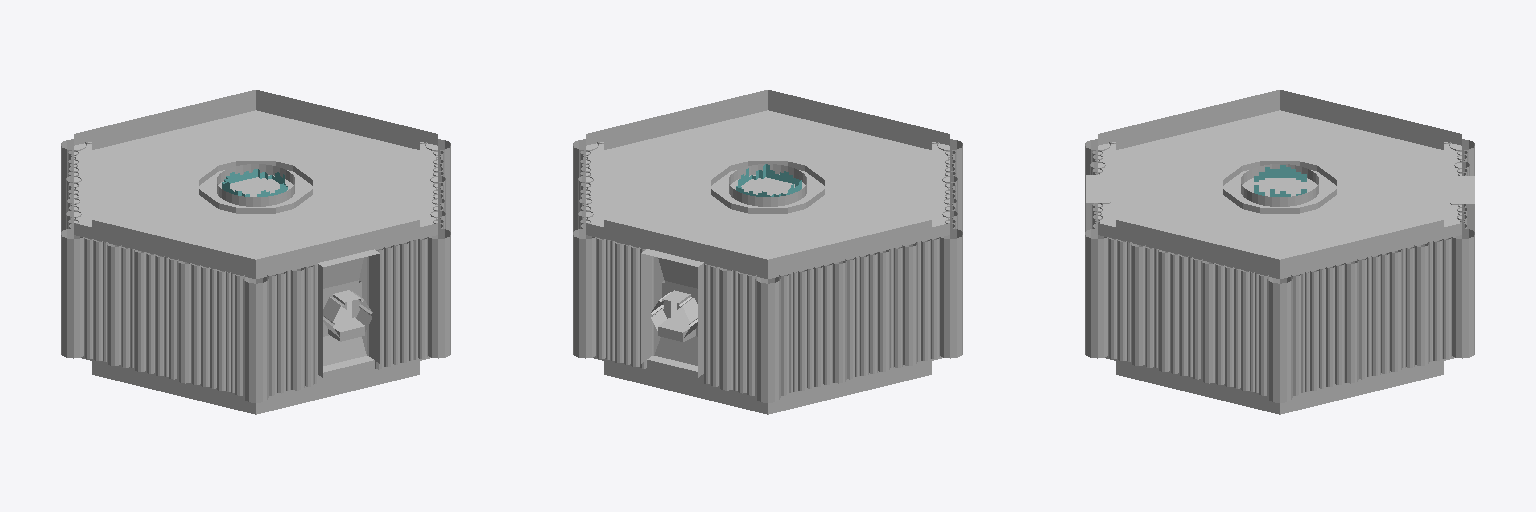
File: Reactor.obj
The picture shows the model from 3 angles: view 1: azimuth 30°, elevation 25°; view 2: azimuth 150°, elevation 25°; view 3: azimuth 270°, elevation 25°; orthographic projection.
Visible parts, largest first — view 1: Cylinder.014_Cylinder.020; view 2: Cylinder.014_Cylinder.020; view 3: Cylinder.014_Cylinder.020.
Part boxes in pixels (left/top/right/bottom): Cylinder.014_Cylinder.020: left=61, top=90, right=450, bottom=414; Cylinder.014_Cylinder.020: left=573, top=90, right=962, bottom=414; Cylinder.014_Cylinder.020: left=1085, top=90, right=1474, bottom=414.
Bounding box in the file's own units: 170 × 66 × 149.